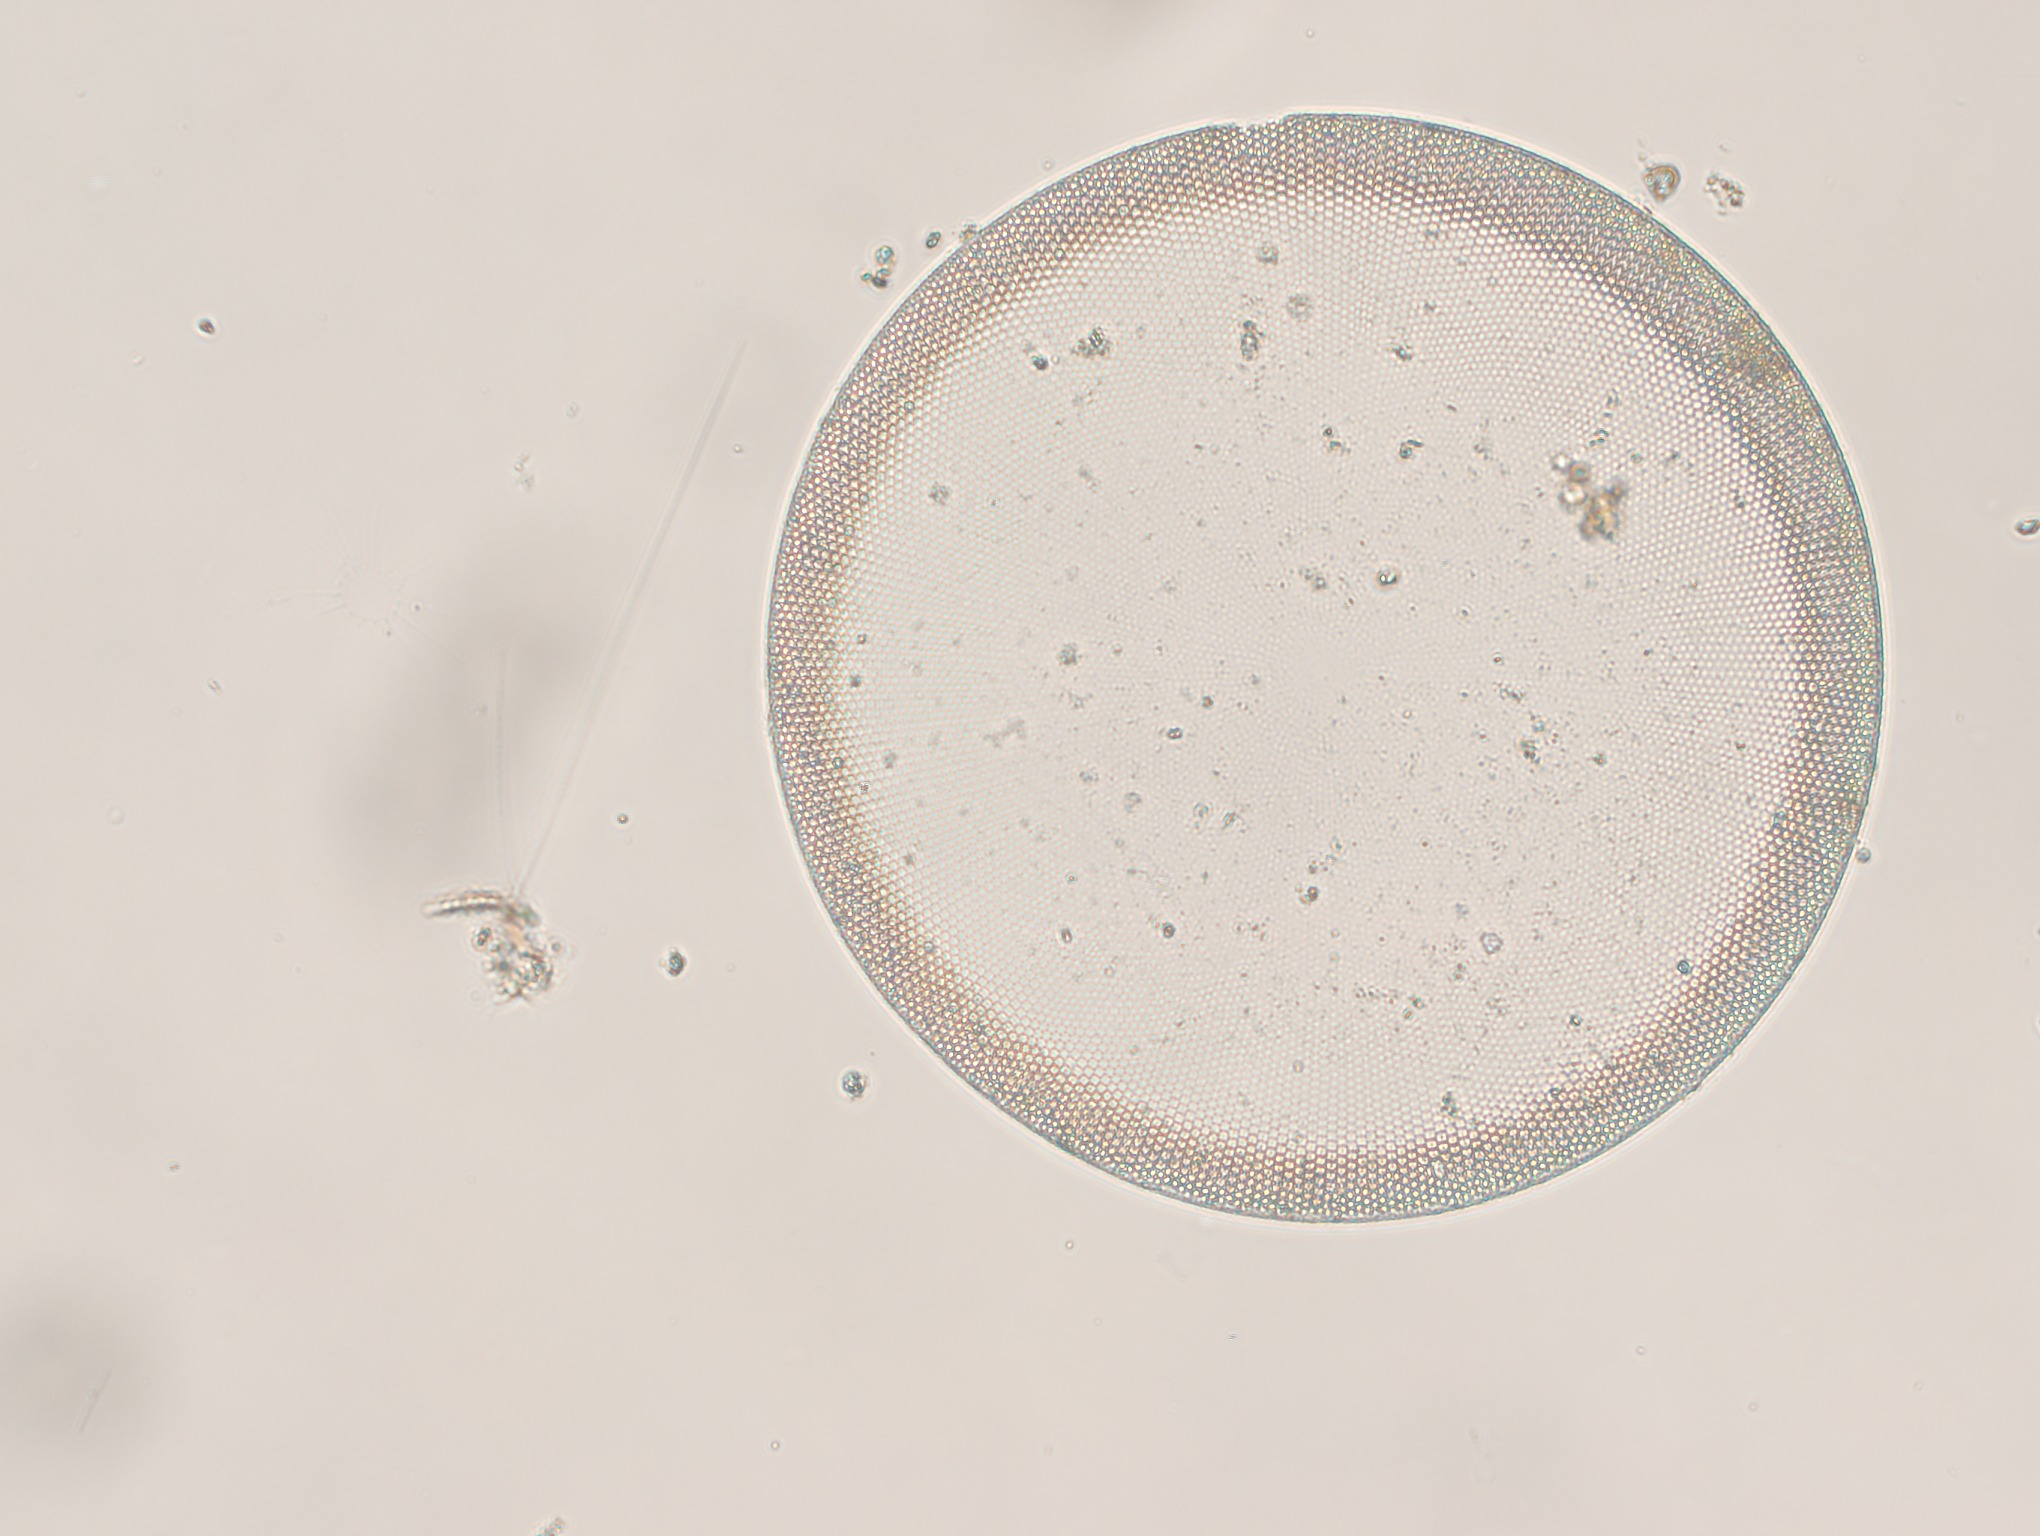coscinodiscus: (735, 123, 1929, 1247)
